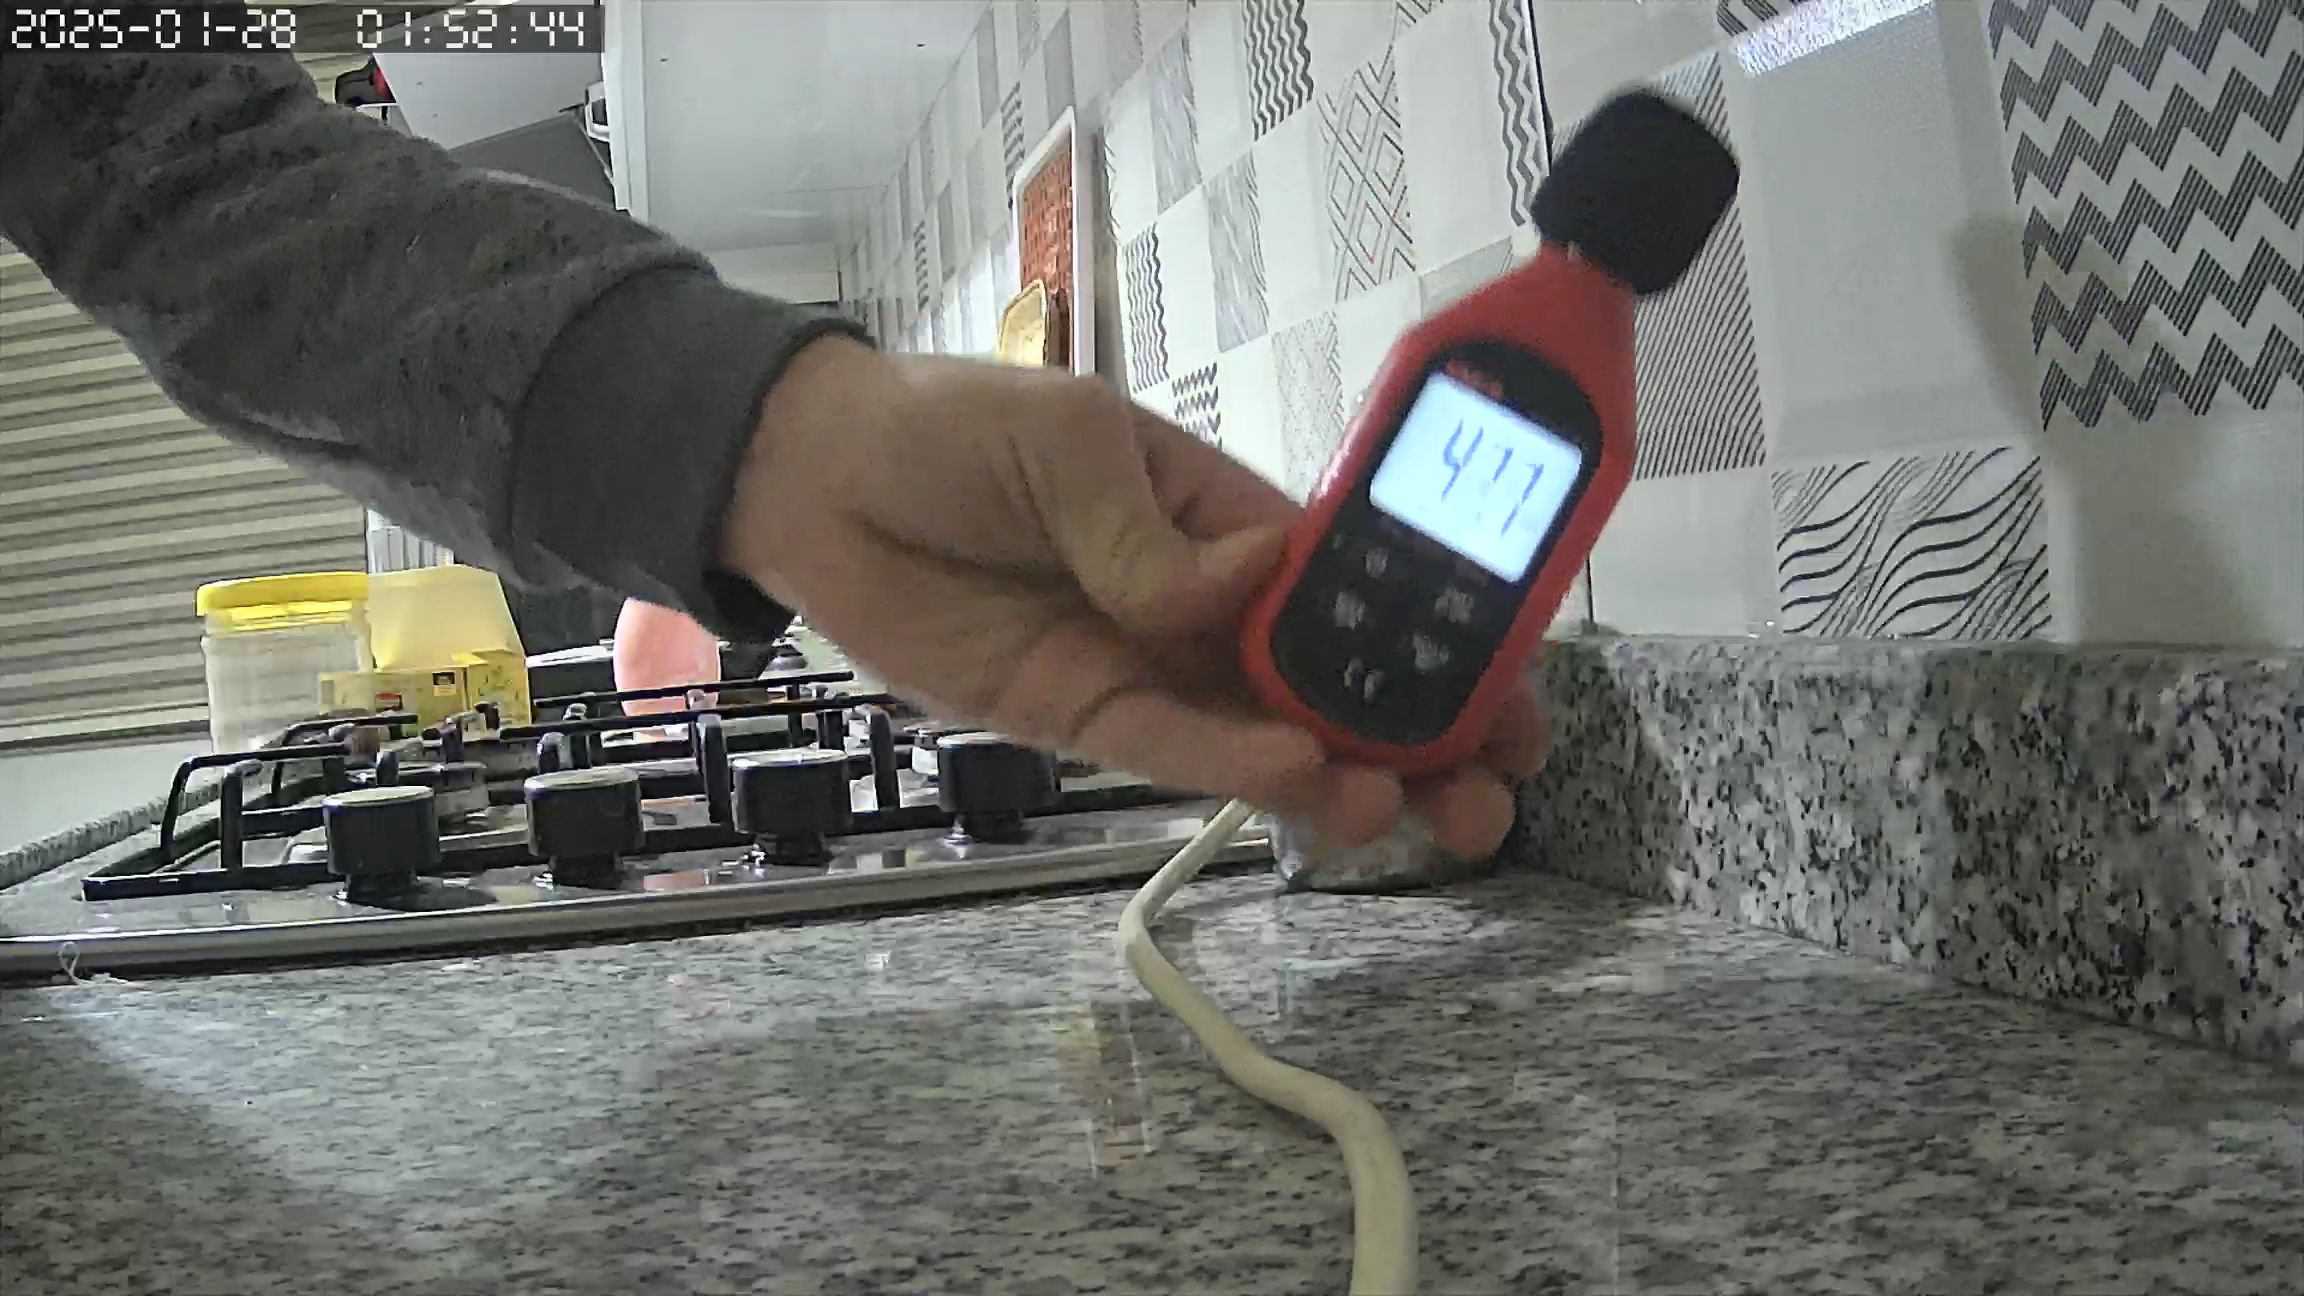screen: (1370, 373, 1582, 584)
